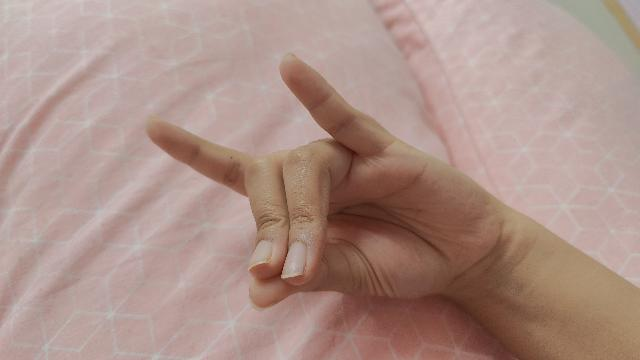sinhamukh: (144, 55, 640, 360)
